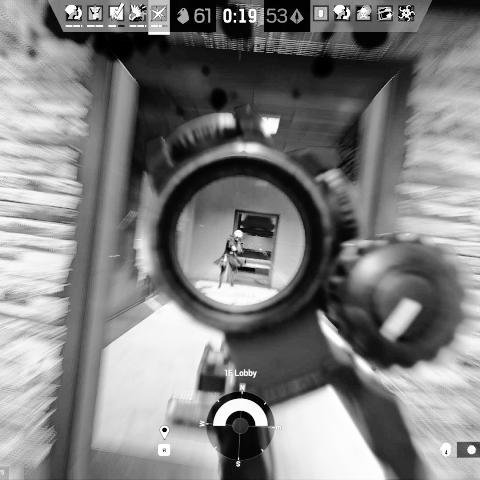Character: (214, 228, 244, 290)
Head: (233, 229, 243, 241)
